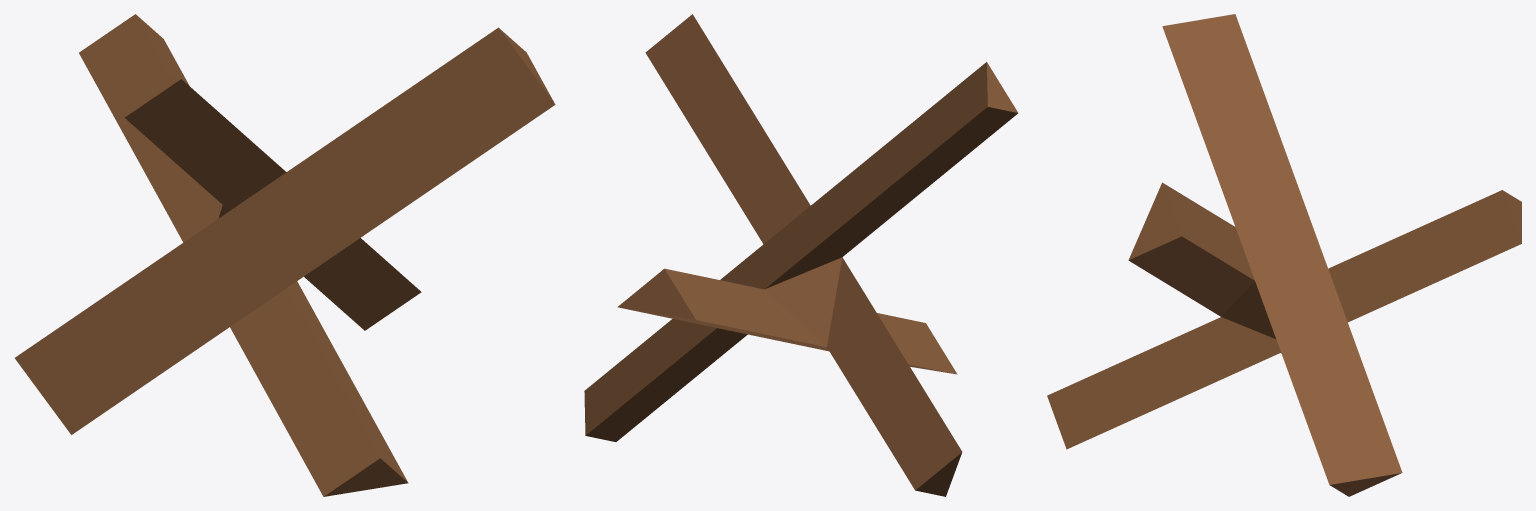
File: ww2_barricade-tank.fbx
3 views of the same model, side by side, from view 1: azimuth 30°, elevation 25°; view 2: azimuth 150°, elevation 25°; view 3: azimuth 270°, elevation 25° (orthographic). The views are drawn at different scales.
Visible parts, largest first — view 1: ww2_barricade_tank; view 2: ww2_barricade_tank; view 3: ww2_barricade_tank.
Part boxes in pixels (x1,y1,x2,y2): ww2_barricade_tank: (15, 14, 555, 496); ww2_barricade_tank: (584, 14, 1018, 496); ww2_barricade_tank: (1047, 14, 1521, 496).
Size of the model in its own units: 180 by 163 by 200.
